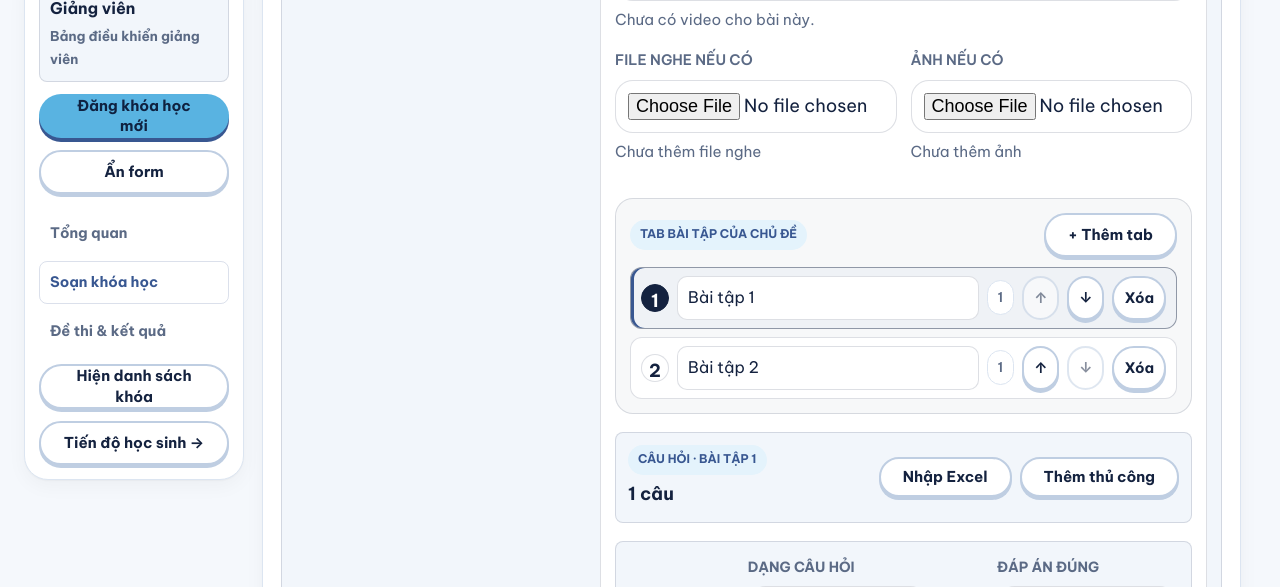
Test: TeacherDashboardPage — tab bài tập của một bài học › thêm tab mới thì mở luôn tab vừa thêm
(page scrolled)
Expected: the 1st field showing "Bài tập 1" is shown, left=677, top=276, right=978, bottom=320
Click the button "+ Thêm tab": click(1110, 235) left=1044, top=213, right=1177, bottom=257
(page scrolled)
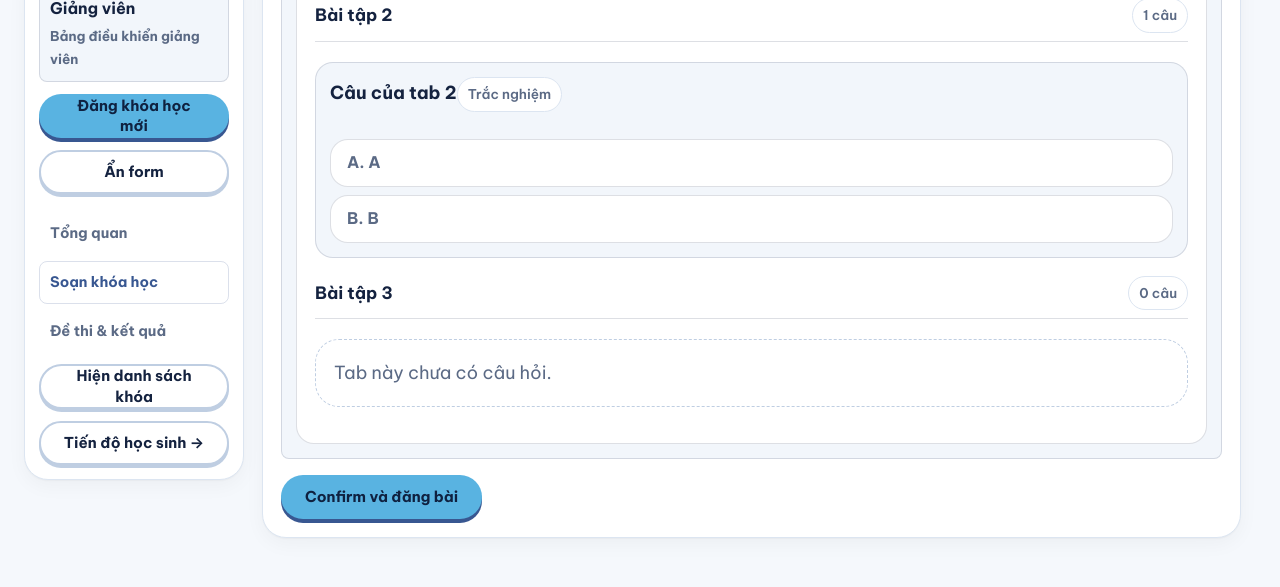
Now the text "Bài tập 3" is shown, box left=315, top=278, right=393, bottom=307
